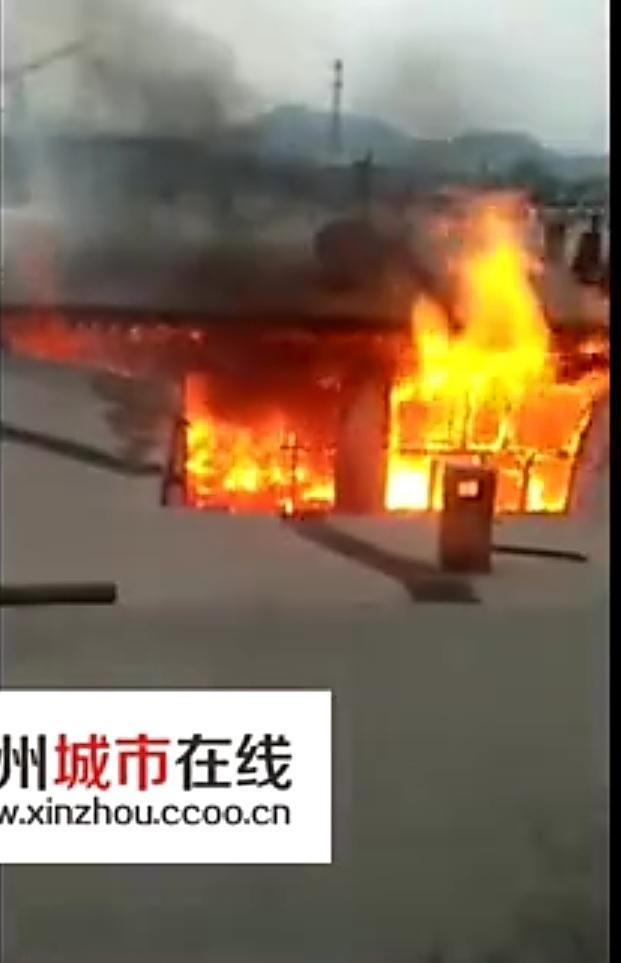fire: (166, 182, 597, 524)
